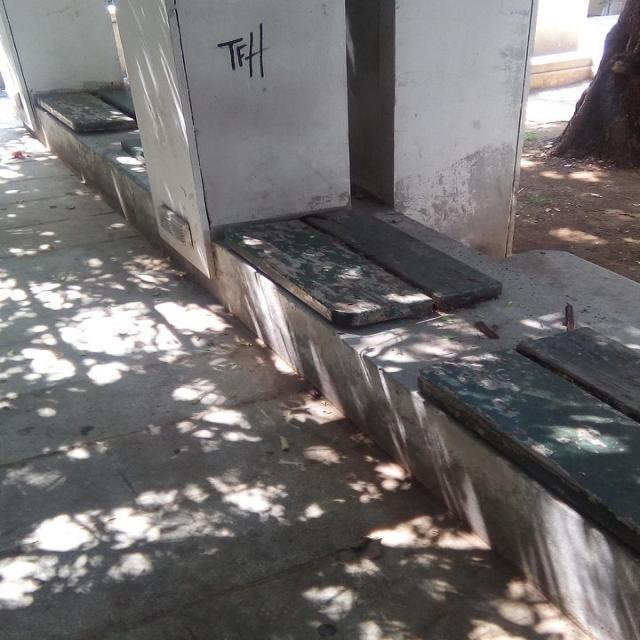nonspitting: (218, 22, 266, 80)
